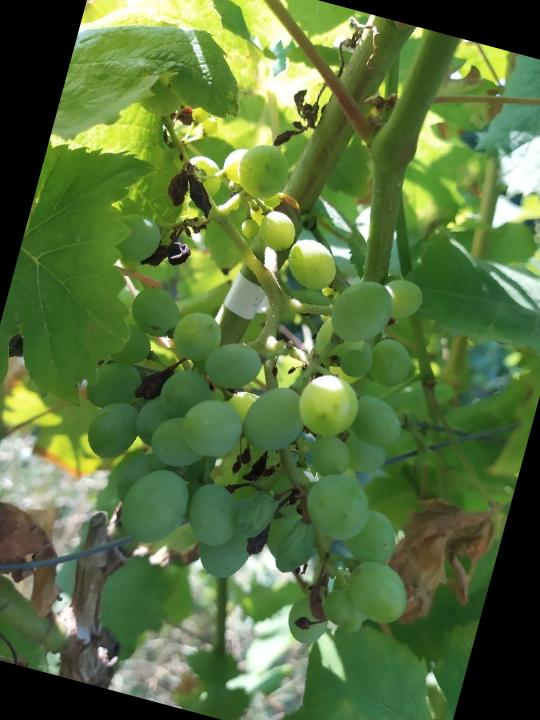grape: (20, 111, 513, 669)
